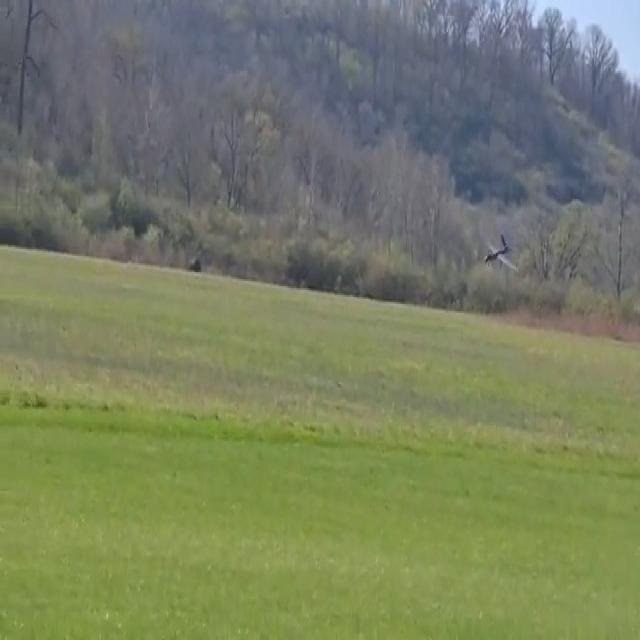iha: (484, 235, 516, 262)
